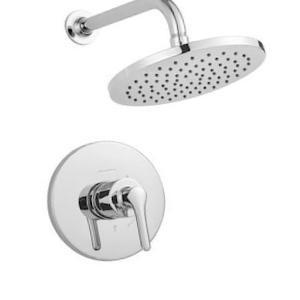Ducha: (32, 0, 268, 273)
